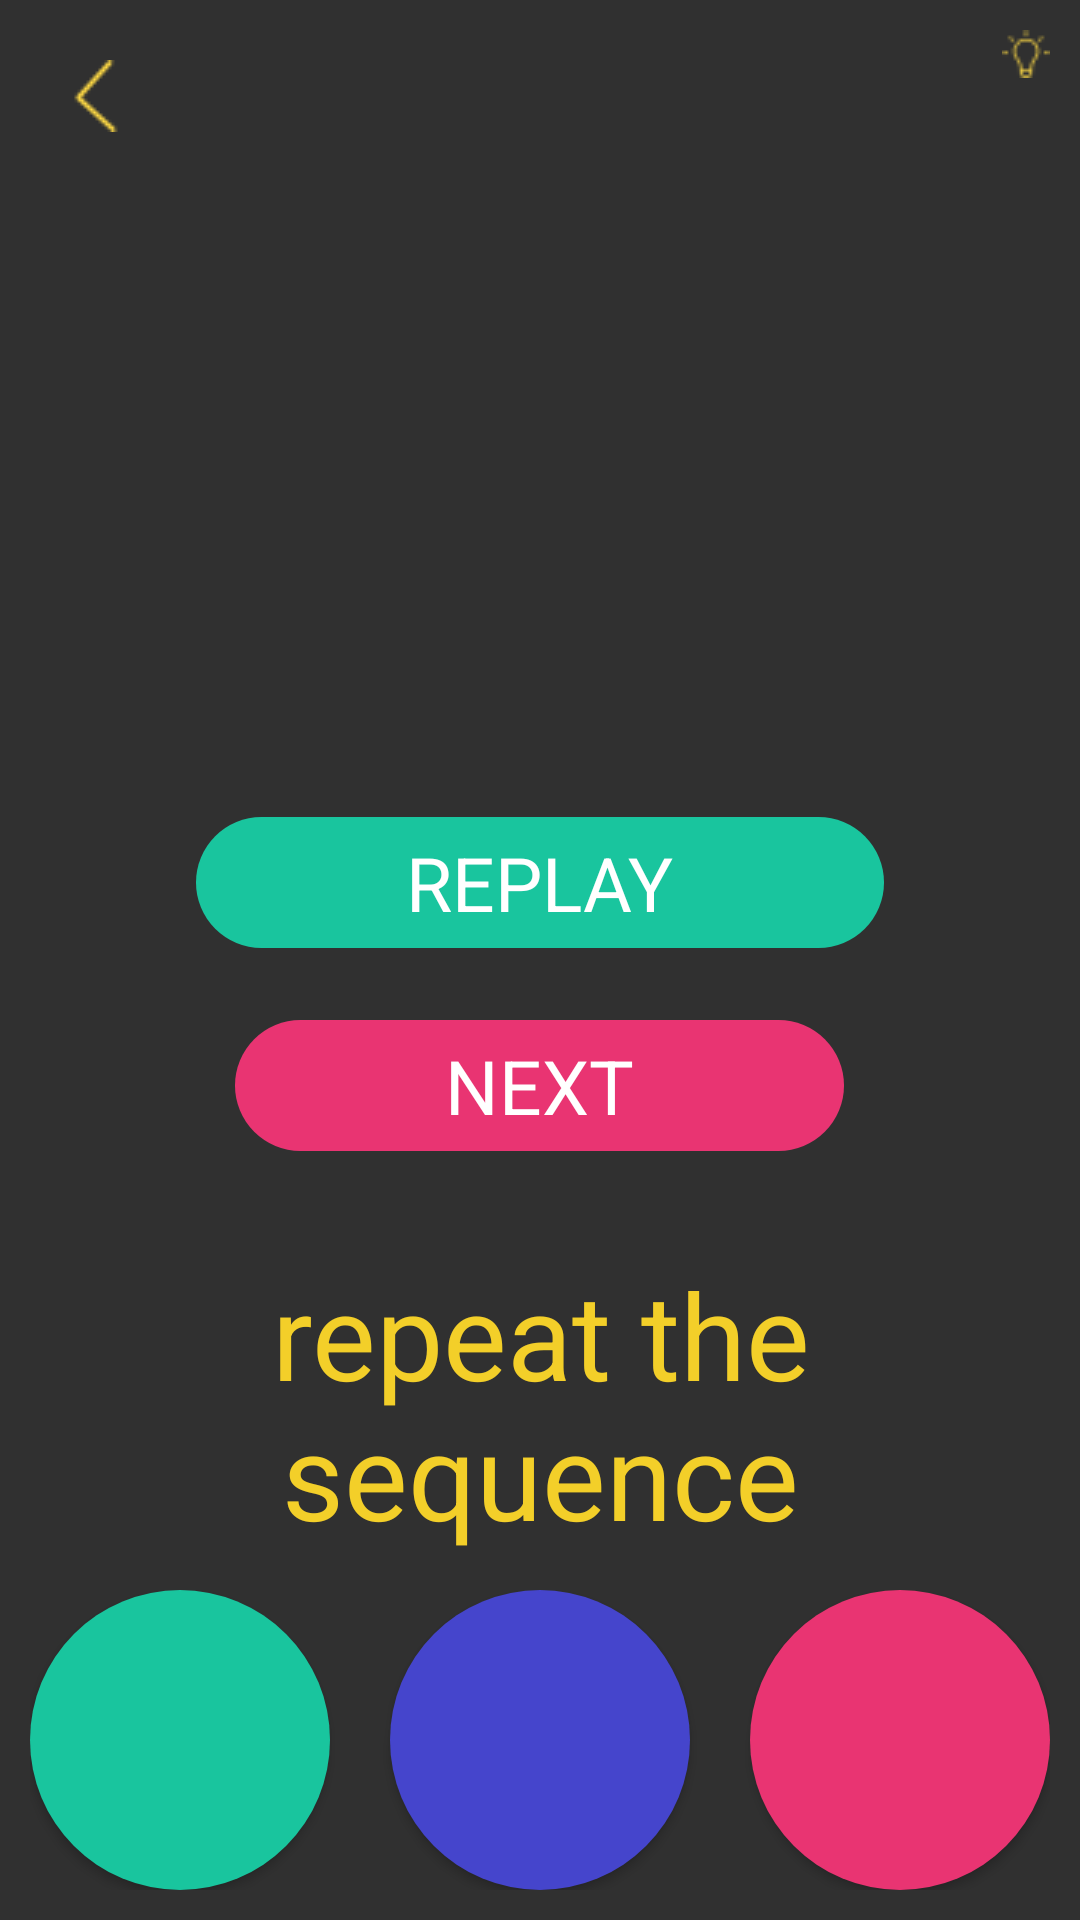

Icons on this 1080×1920 Android screen, each with the point to tap as (x=x, y=y):
arrow: (x=95, y=96)
lightbulb: (x=1026, y=54)
